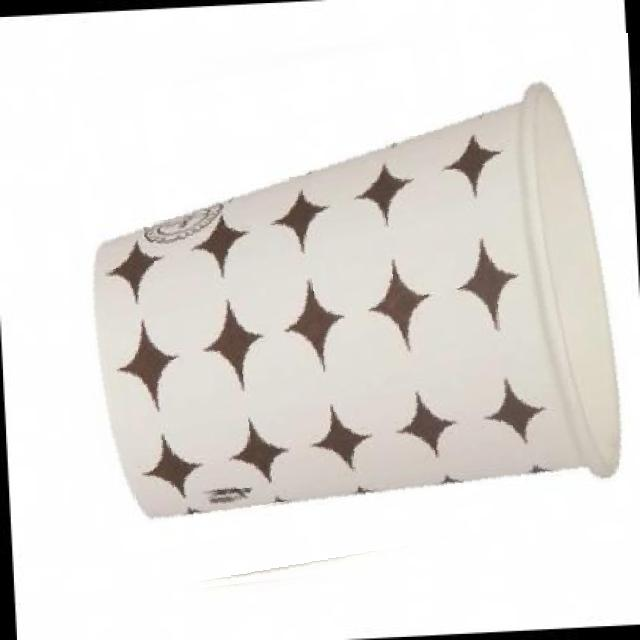non-biodegradable: (67, 33, 631, 596)
